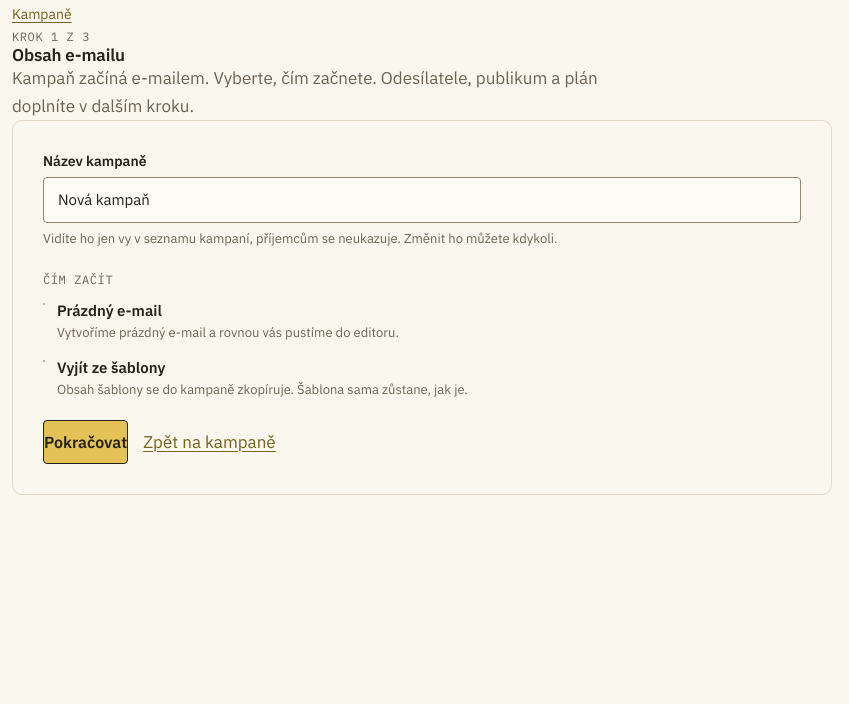
krok 1: obsah e-mailu › nevybraná šablona zastaví u obrazovky, ne až na API
What coordinates should you click on to do the following:
click the radio button with test id "campaign-source-template"
I would click on:
 (44, 361)
Its box is x1=43 y1=360 x2=45 y2=362.
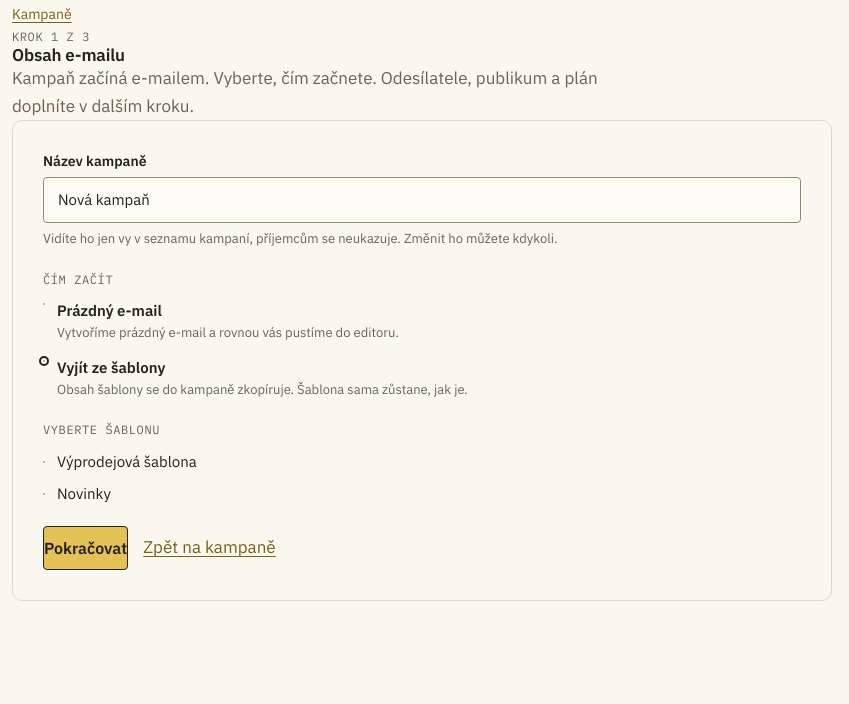
What coordinates should you click on to do the following:
click the button with test id "new-campaign-continue"
I would click on:
 (86, 548)
Its box is x1=43 y1=526 x2=128 y2=570.
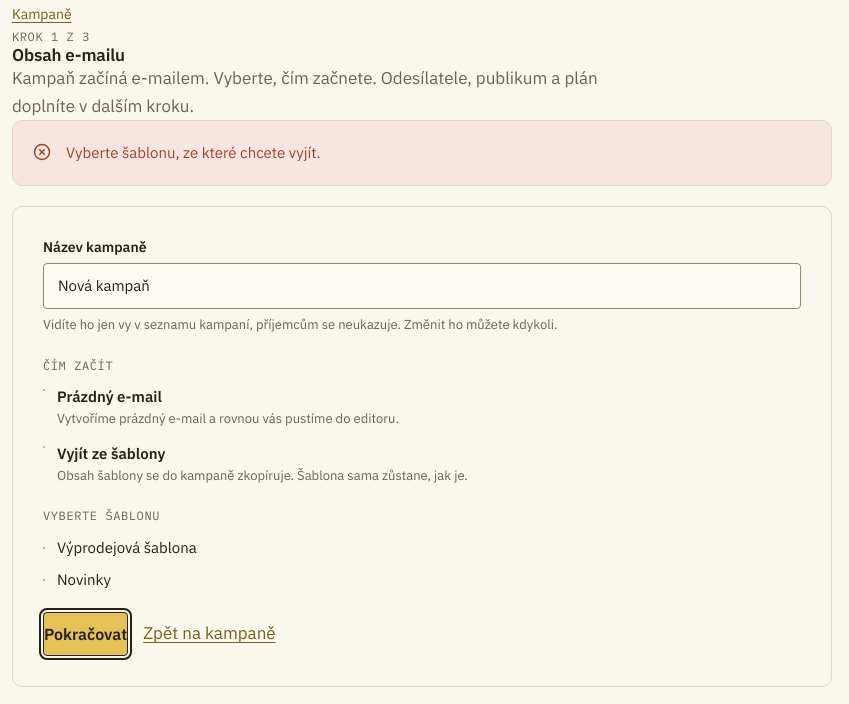
Expected: the message with test id "new-campaign-error" shows "Vyberte šablonu", x1=66 y1=143 x2=320 y2=162
